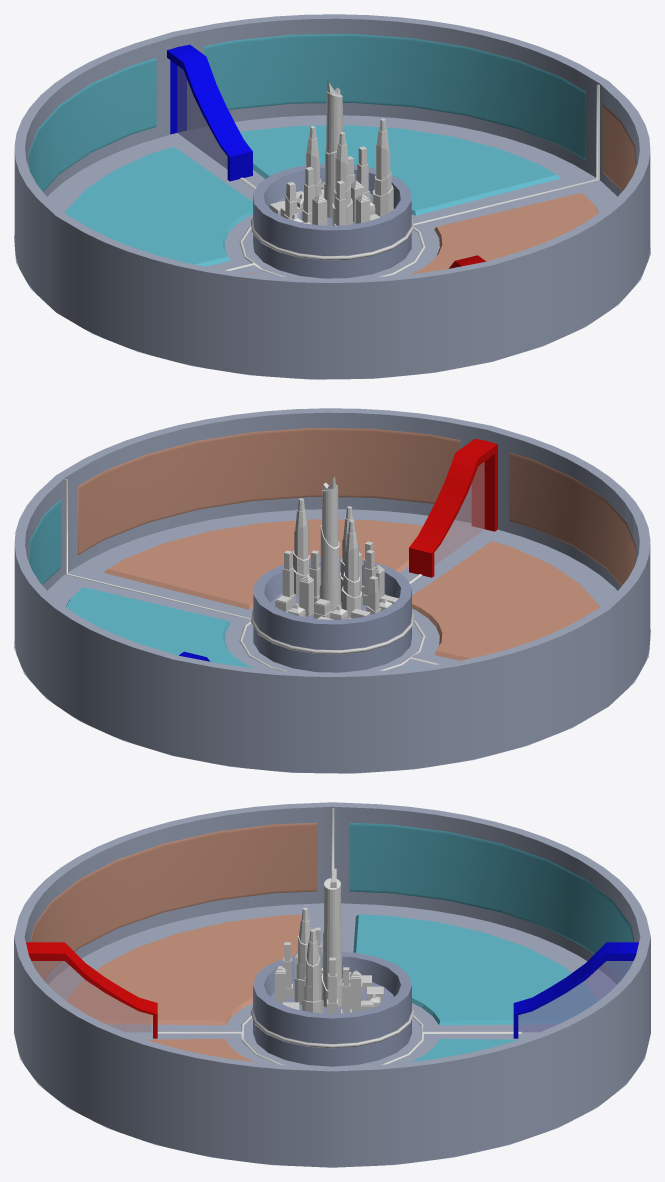
File: arena_mesh.fbx
3 views of the same model, one above another, from view 1: azimuth 30°, elevation 25°; view 2: azimuth 150°, elevation 25°; view 3: azimuth 270°, elevation 25° (orthographic).
Parts seen in each view (by area): view 1: wall_mesh, blue_wall_mesh, ground_mesh, center_beacon_mesh, red_plate_mesh, city_model_mesh, blue_goal_mesh, light_pipe_mesh, blue_web_mesh; view 2: wall_mesh, red_plate_mesh, ground_mesh, center_beacon_mesh, city_model_mesh, blue_wall_mesh, red_goal_mesh, light_pipe_mesh, red_web_mesh; view 3: wall_mesh, blue_wall_mesh, red_plate_mesh, ground_mesh, center_beacon_mesh, city_model_mesh, red_web_mesh, blue_web_mesh, red_goal_mesh, blue_goal_mesh, light_pipe_mesh.
Boxes of the visible parts, box(x1,y1,x2,y2) form: wall_mesh: box(14, 14, 650, 379); blue_wall_mesh: box(28, 34, 585, 266); ground_mesh: box(14, 115, 650, 379); center_beacon_mesh: box(253, 163, 411, 278); red_plate_mesh: box(247, 104, 636, 273); city_model_mesh: box(269, 81, 393, 225); blue_goal_mesh: box(167, 44, 252, 181); light_pipe_mesh: box(225, 84, 599, 276); blue_web_mesh: box(177, 65, 227, 169); wall_mesh: box(14, 408, 650, 773); red_plate_mesh: box(78, 428, 636, 660); ground_mesh: box(14, 509, 650, 773); center_beacon_mesh: box(253, 557, 411, 672); city_model_mesh: box(275, 477, 398, 619); blue_wall_mesh: box(28, 499, 417, 667); red_goal_mesh: box(409, 438, 497, 577); light_pipe_mesh: box(64, 479, 439, 670); red_web_mesh: box(434, 462, 484, 565); wall_mesh: box(14, 802, 650, 1167); blue_wall_mesh: box(349, 822, 633, 1061); red_plate_mesh: box(31, 822, 316, 1061); ground_mesh: box(18, 903, 646, 1165); center_beacon_mesh: box(253, 952, 411, 1066); city_model_mesh: box(275, 868, 383, 1013); red_web_mesh: box(32, 961, 152, 1032); blue_web_mesh: box(518, 961, 633, 1032); red_goal_mesh: box(26, 942, 157, 1038); blue_goal_mesh: box(513, 942, 638, 1038); light_pipe_mesh: box(157, 808, 521, 1064).
Bounding box in the file's own units: 24 × 6.9 × 24.
